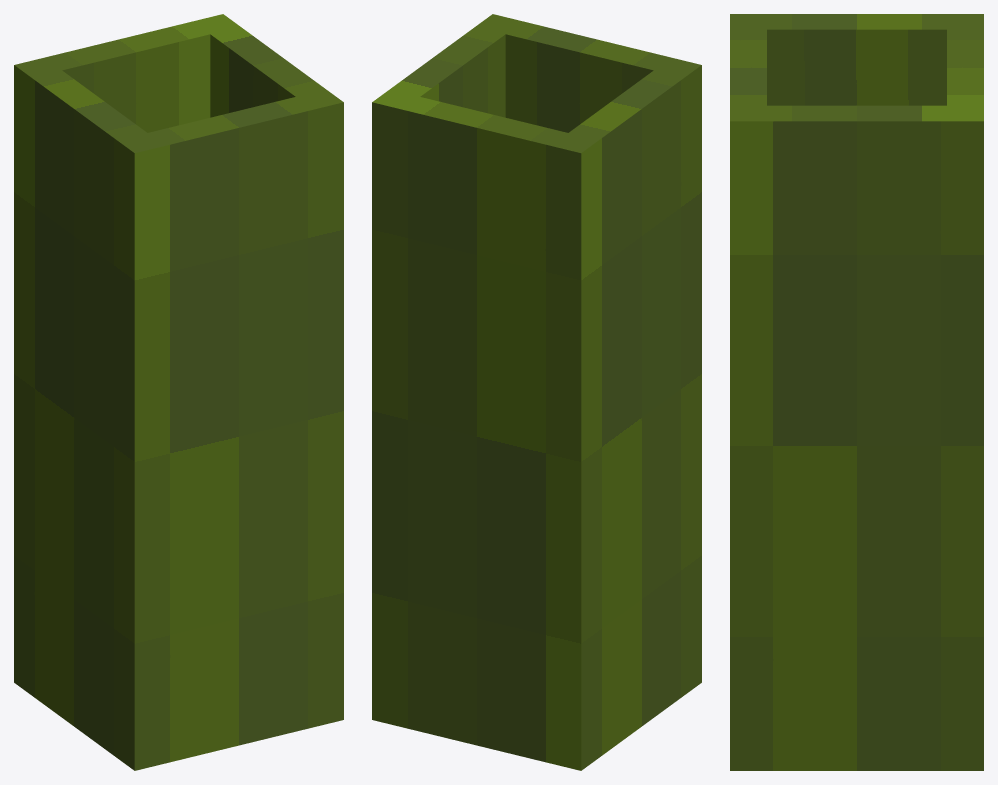
Rendered from Sea_Pickle.obj.
The picture shows the model from 3 angles, left to right: view 1: azimuth 30°, elevation 25°; view 2: azimuth 150°, elevation 25°; view 3: azimuth 270°, elevation 25°; orthographic projection. The views are drawn at different scales.
Parts seen in each view (by area): view 1: Sea_Pickle; view 2: Sea_Pickle; view 3: Sea_Pickle.
Part boxes in pixels (x1=…): Sea_Pickle: x1=14, y1=14, x2=343, y2=770; Sea_Pickle: x1=372, y1=14, x2=701, y2=770; Sea_Pickle: x1=730, y1=14, x2=983, y2=770.
Size of the model in its own units: 0.1224 by 0.3455 by 0.1223.
1 material, 1 textured.
